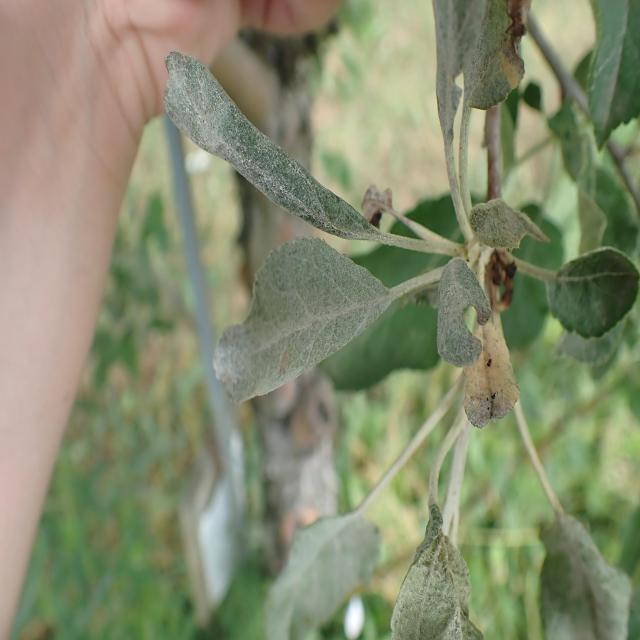healthy: (211, 236, 390, 407), (389, 500, 483, 640)
